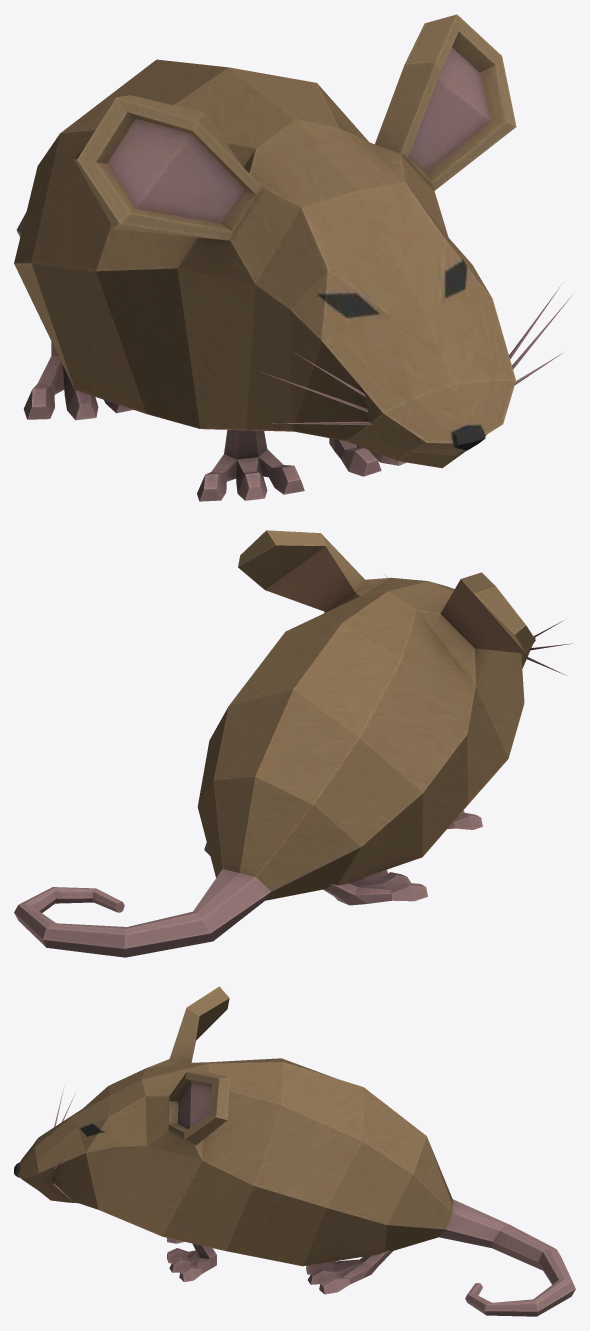
Rendered from 5N7L6S3uIzx.glb.
The picture shows the model from 3 angles, top to bottom: view 1: azimuth 30°, elevation 25°; view 2: azimuth 150°, elevation 25°; view 3: azimuth 270°, elevation 25°; orthographic projection. The views are drawn at different scales.
Parts seen in each view (by area): view 1: Mouse_mesh; view 2: Mouse_mesh; view 3: Mouse_mesh.
Boxes of the visible parts, left/top/right/bottom form: Mouse_mesh: left=14, top=14, right=573, bottom=501; Mouse_mesh: left=14, top=530, right=573, bottom=957; Mouse_mesh: left=14, top=986, right=575, bottom=1316.
Size of the model in its own units: 1.25 by 1 by 2.34.
Materials: 1 (1 with a texture image).
